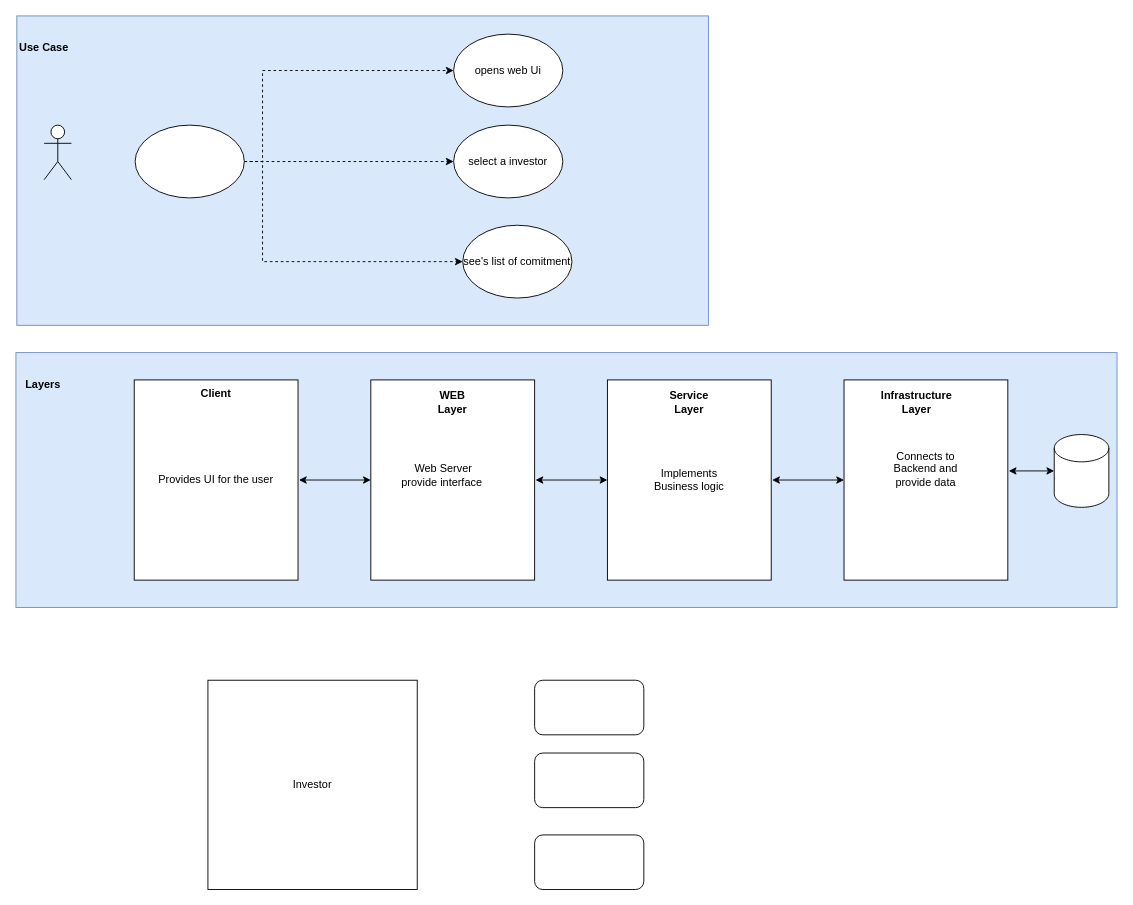
This 1133x905 diagram has some shape labels left out. The shapes that lost their labels are listed below. From the top down, each one's centre as x and y in pixels, then its label:
At pixel 57 152: "Actor".
At pixel 189 161: "Get commitment for investors".
At pixel 1081 470: "Data".
